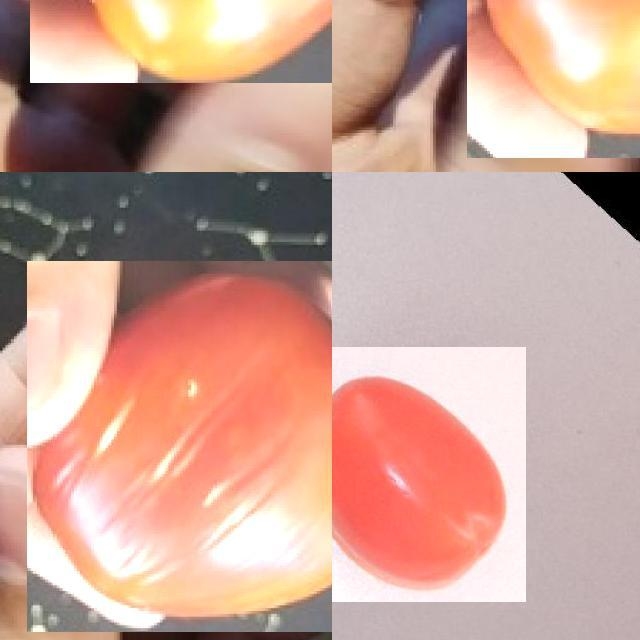Fresh Tomato: (332, 346, 525, 602), (467, 0, 640, 157), (30, 0, 332, 82)
Rotten Tomato: (27, 261, 332, 632)
